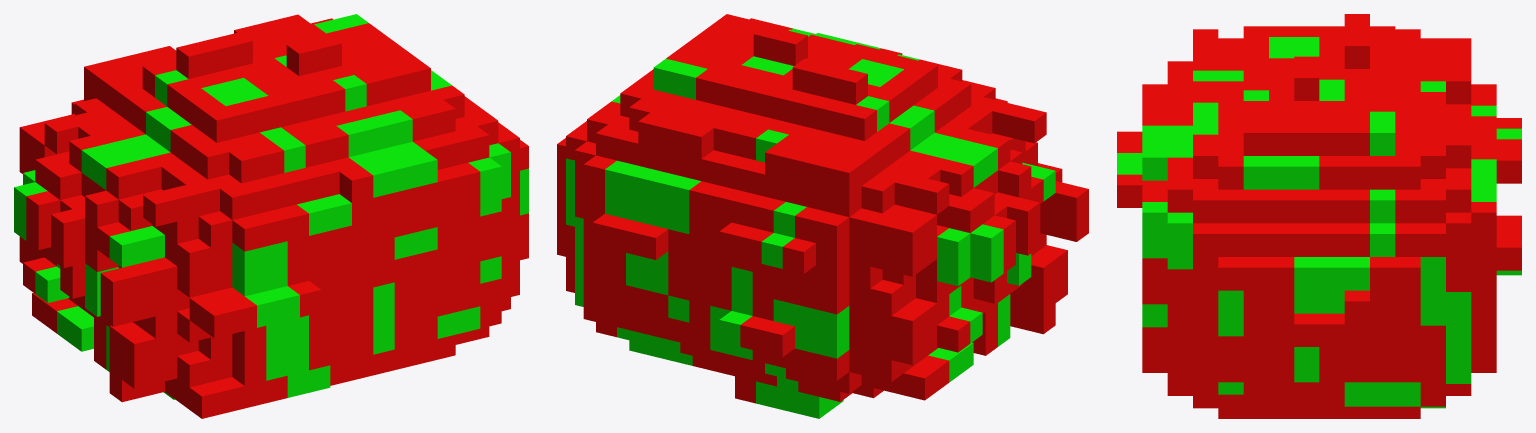
File: fireball.fbx
3 renders of one model, left to right at view 1: azimuth 30°, elevation 25°; view 2: azimuth 150°, elevation 25°; view 3: azimuth 270°, elevation 25°, orthographic. The views are drawn at different scales.
Parts seen in each view (by area): view 1: Fireball.004; view 2: Fireball.004; view 3: Fireball.004.
Part boxes in pixels (x1,y1,x2,y2): Fireball.004: (14,14,528,418); Fireball.004: (557,14,1088,418); Fireball.004: (1117,14,1521,418).
Size of the model in its own units: 210 by 140 by 160.
1 material, 1 textured.
